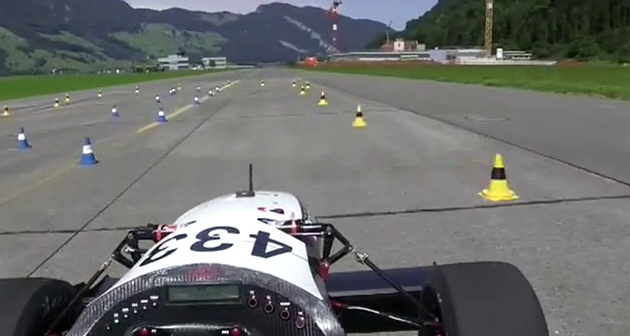Cone: (477, 153, 520, 203), (77, 135, 100, 167), (14, 126, 33, 150), (350, 104, 368, 129), (317, 90, 328, 106)
